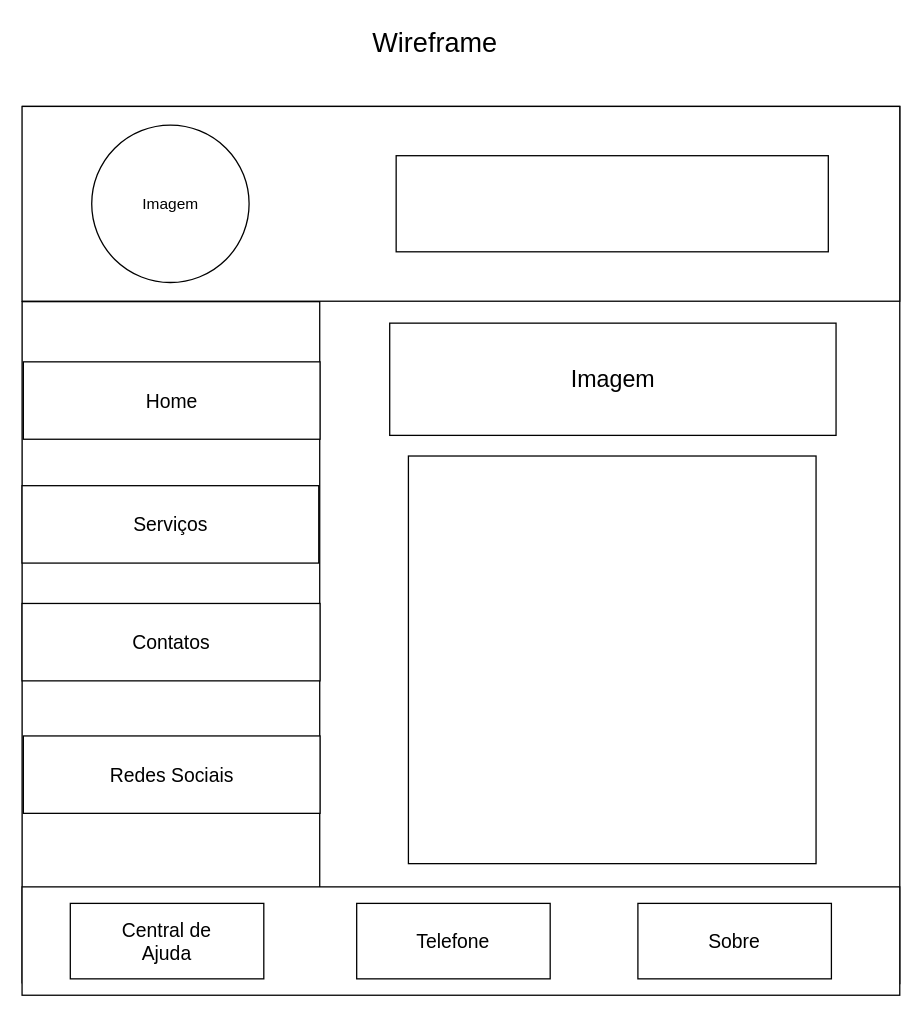
The diagram is 924 pixels wide and 1018 high, and some of its shapes have lost their labels. Here are the shapes that lost their labels. From the top down, the centre of each, then its label:
At point 611,203: "Site do Ratão".
At point 611,659: "Texto".
